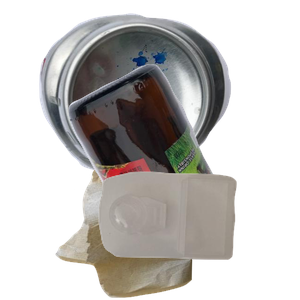glass: (66, 61, 300, 241)
metal: (37, 11, 261, 180)
plastic: (96, 169, 300, 300)
trash: (53, 121, 239, 300)
